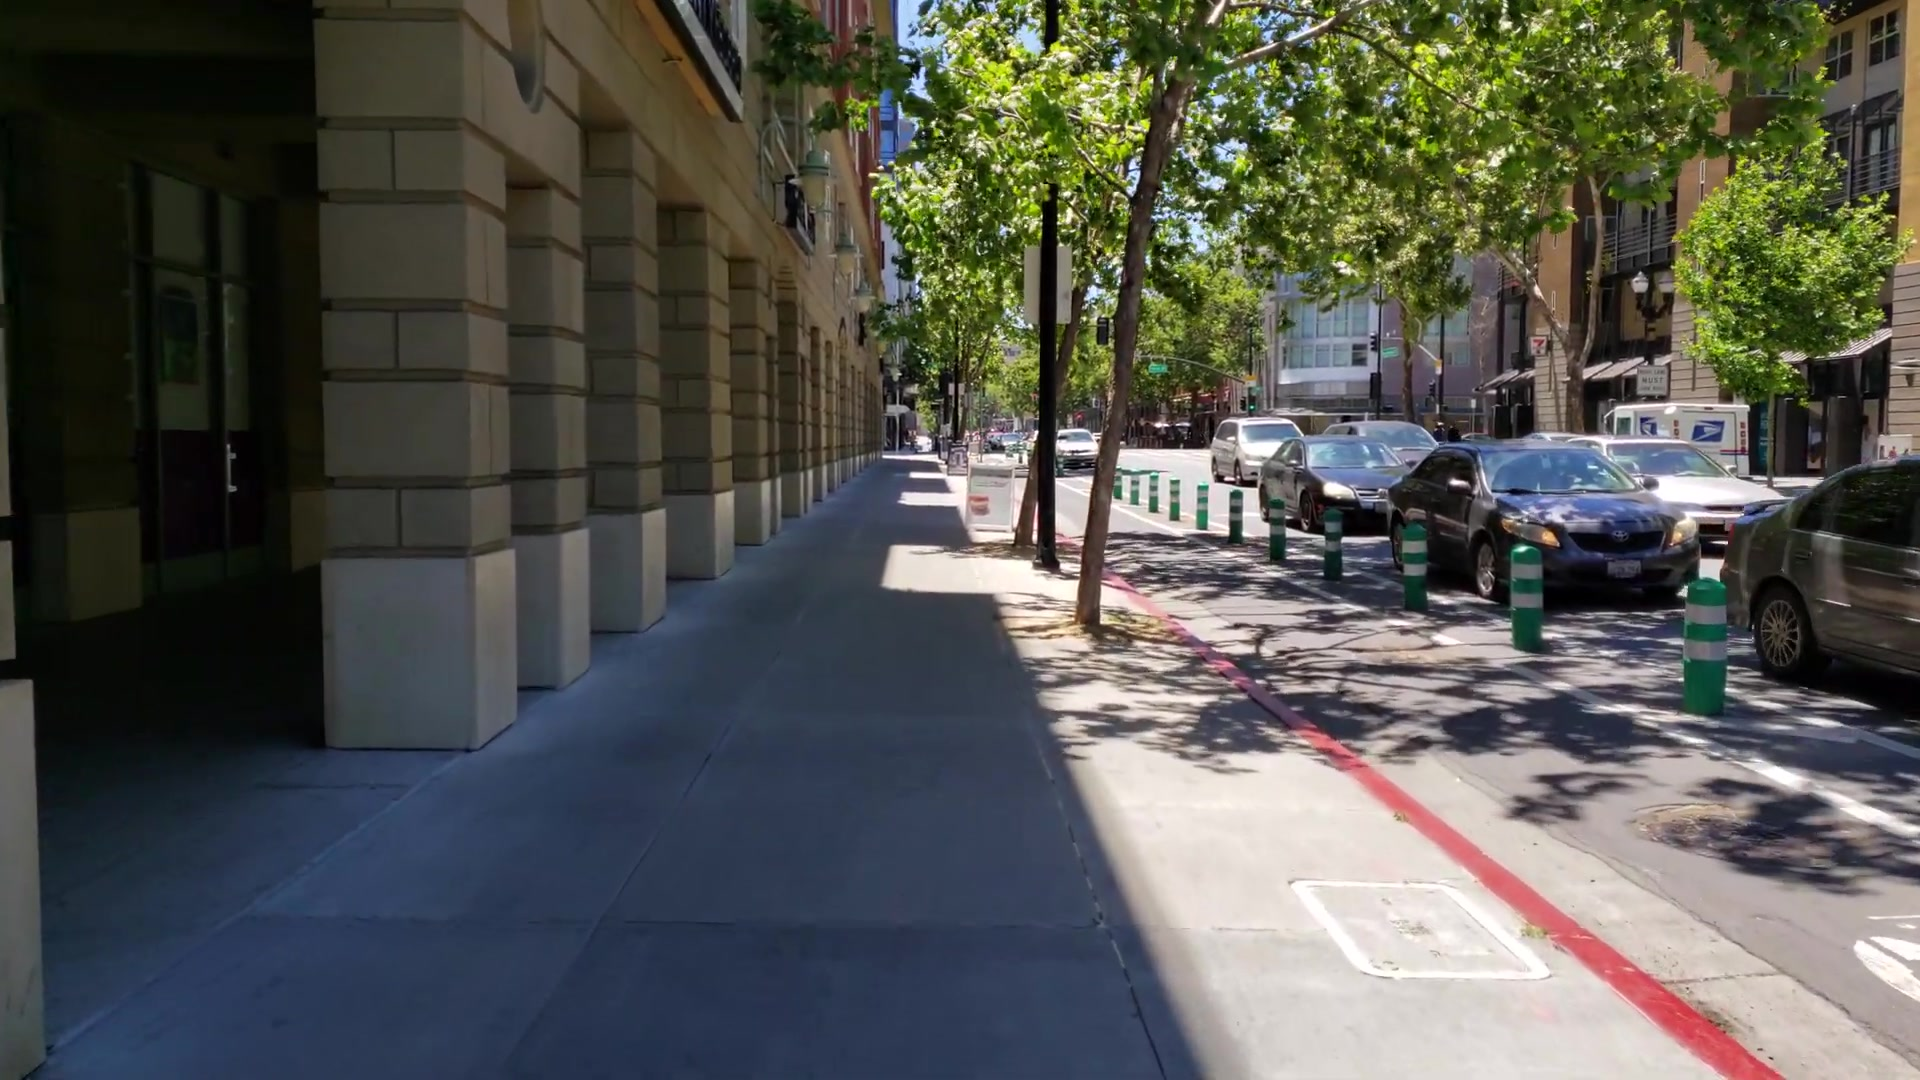vehicle: (1393, 442, 1709, 599), (1733, 458, 1920, 691), (1261, 436, 1407, 539), (1212, 410, 1302, 483)
